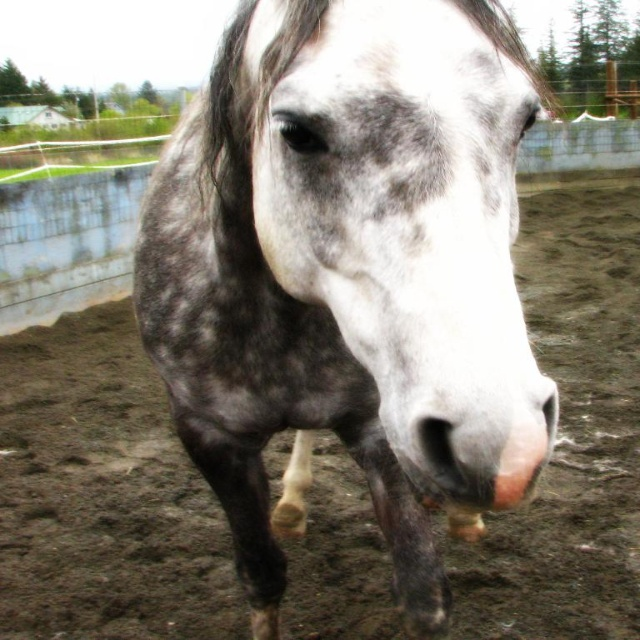Horse: (134, 0, 562, 640)
